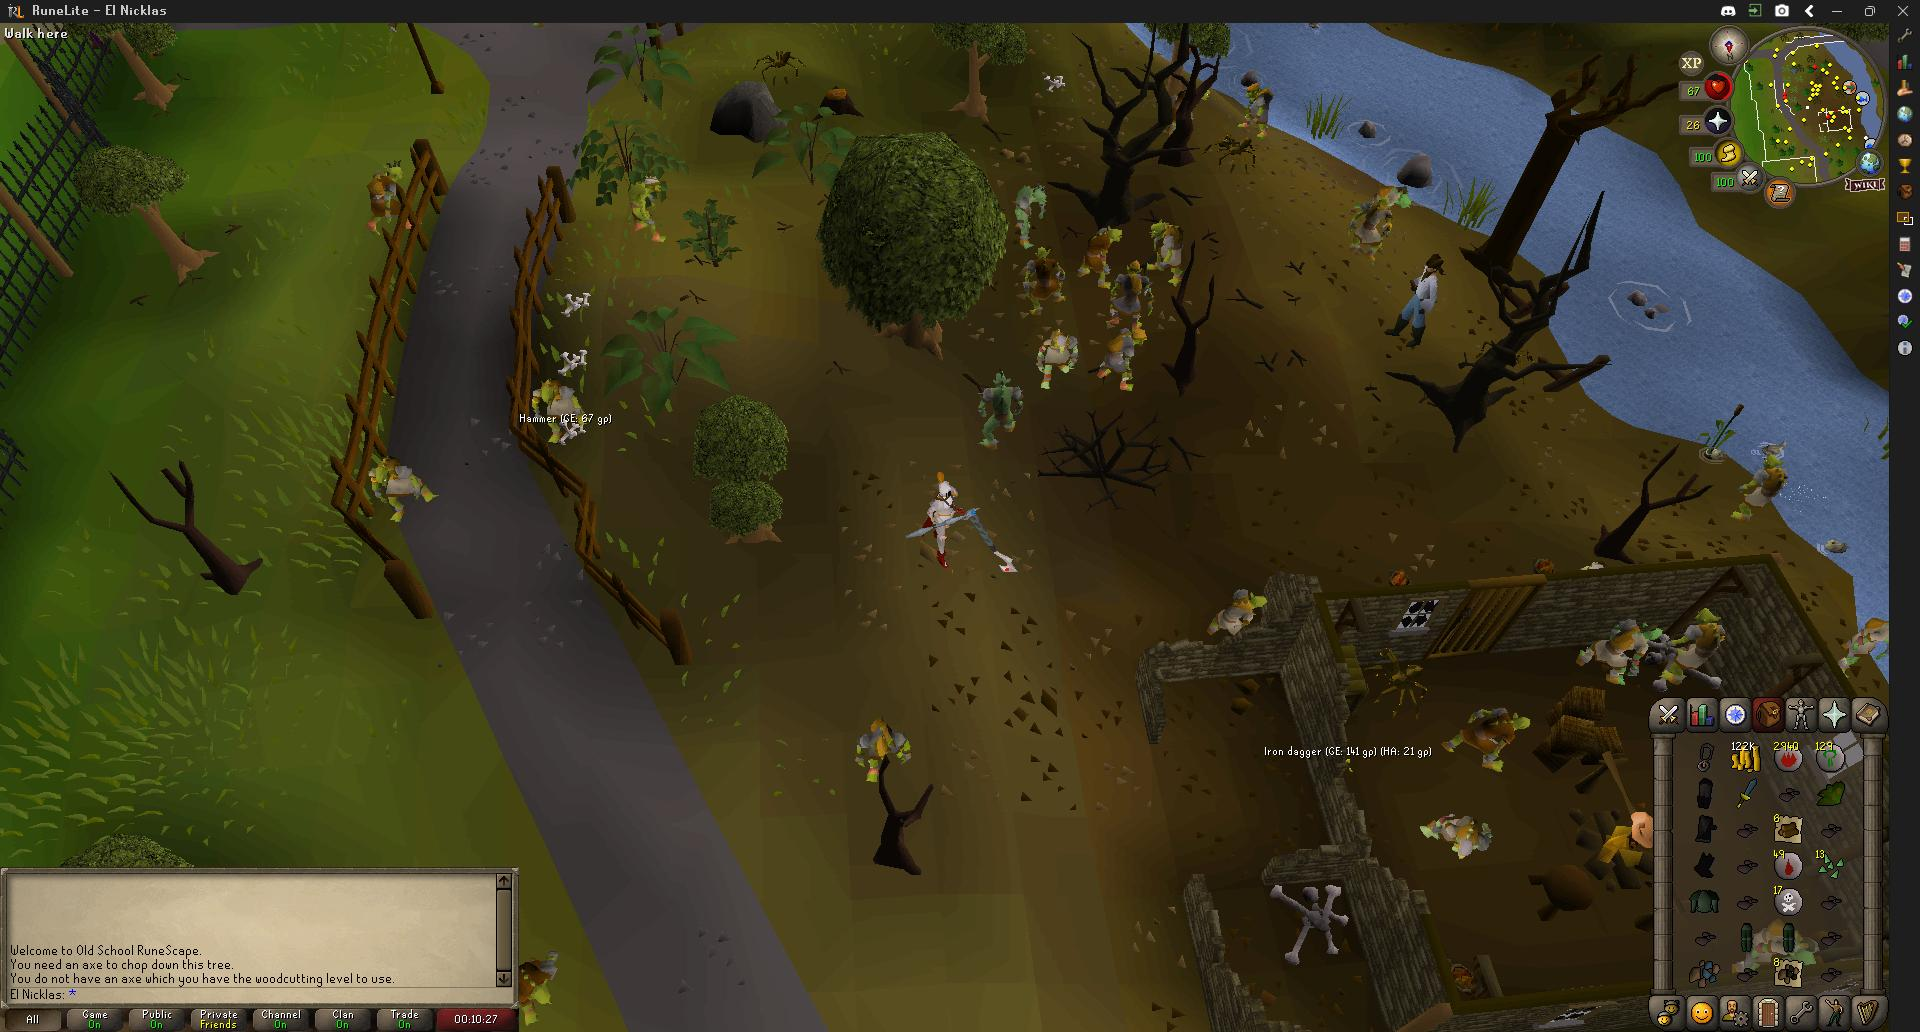Player: (905, 474, 1002, 571)
goblin: (1650, 614, 1729, 688), (1568, 618, 1653, 685), (1438, 703, 1521, 767), (1346, 179, 1409, 261), (366, 455, 437, 521), (1734, 438, 1789, 516), (1599, 804, 1658, 873), (855, 716, 912, 781), (531, 378, 585, 442), (1418, 812, 1490, 859), (1019, 248, 1066, 316), (976, 372, 1019, 446), (368, 163, 409, 238), (1838, 616, 1890, 675), (1108, 258, 1153, 326), (1095, 324, 1142, 389), (1205, 588, 1263, 639), (1033, 325, 1076, 390), (1148, 219, 1187, 289), (1077, 225, 1117, 290), (630, 171, 667, 240), (1012, 183, 1047, 252), (1242, 71, 1276, 140)
